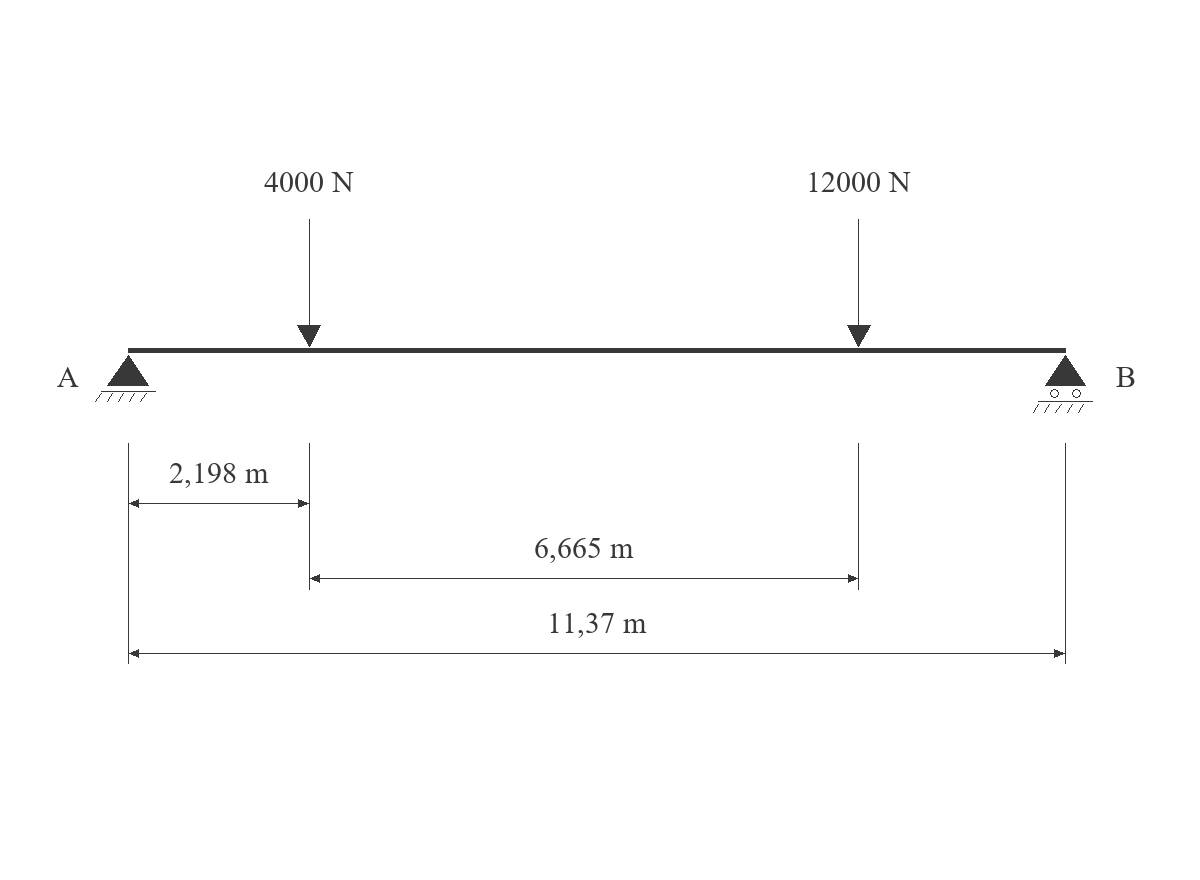pin_support: (95, 355, 156, 402)
point_load: (297, 219, 321, 347), (847, 219, 871, 347)
roller_support: (1033, 355, 1093, 413)
